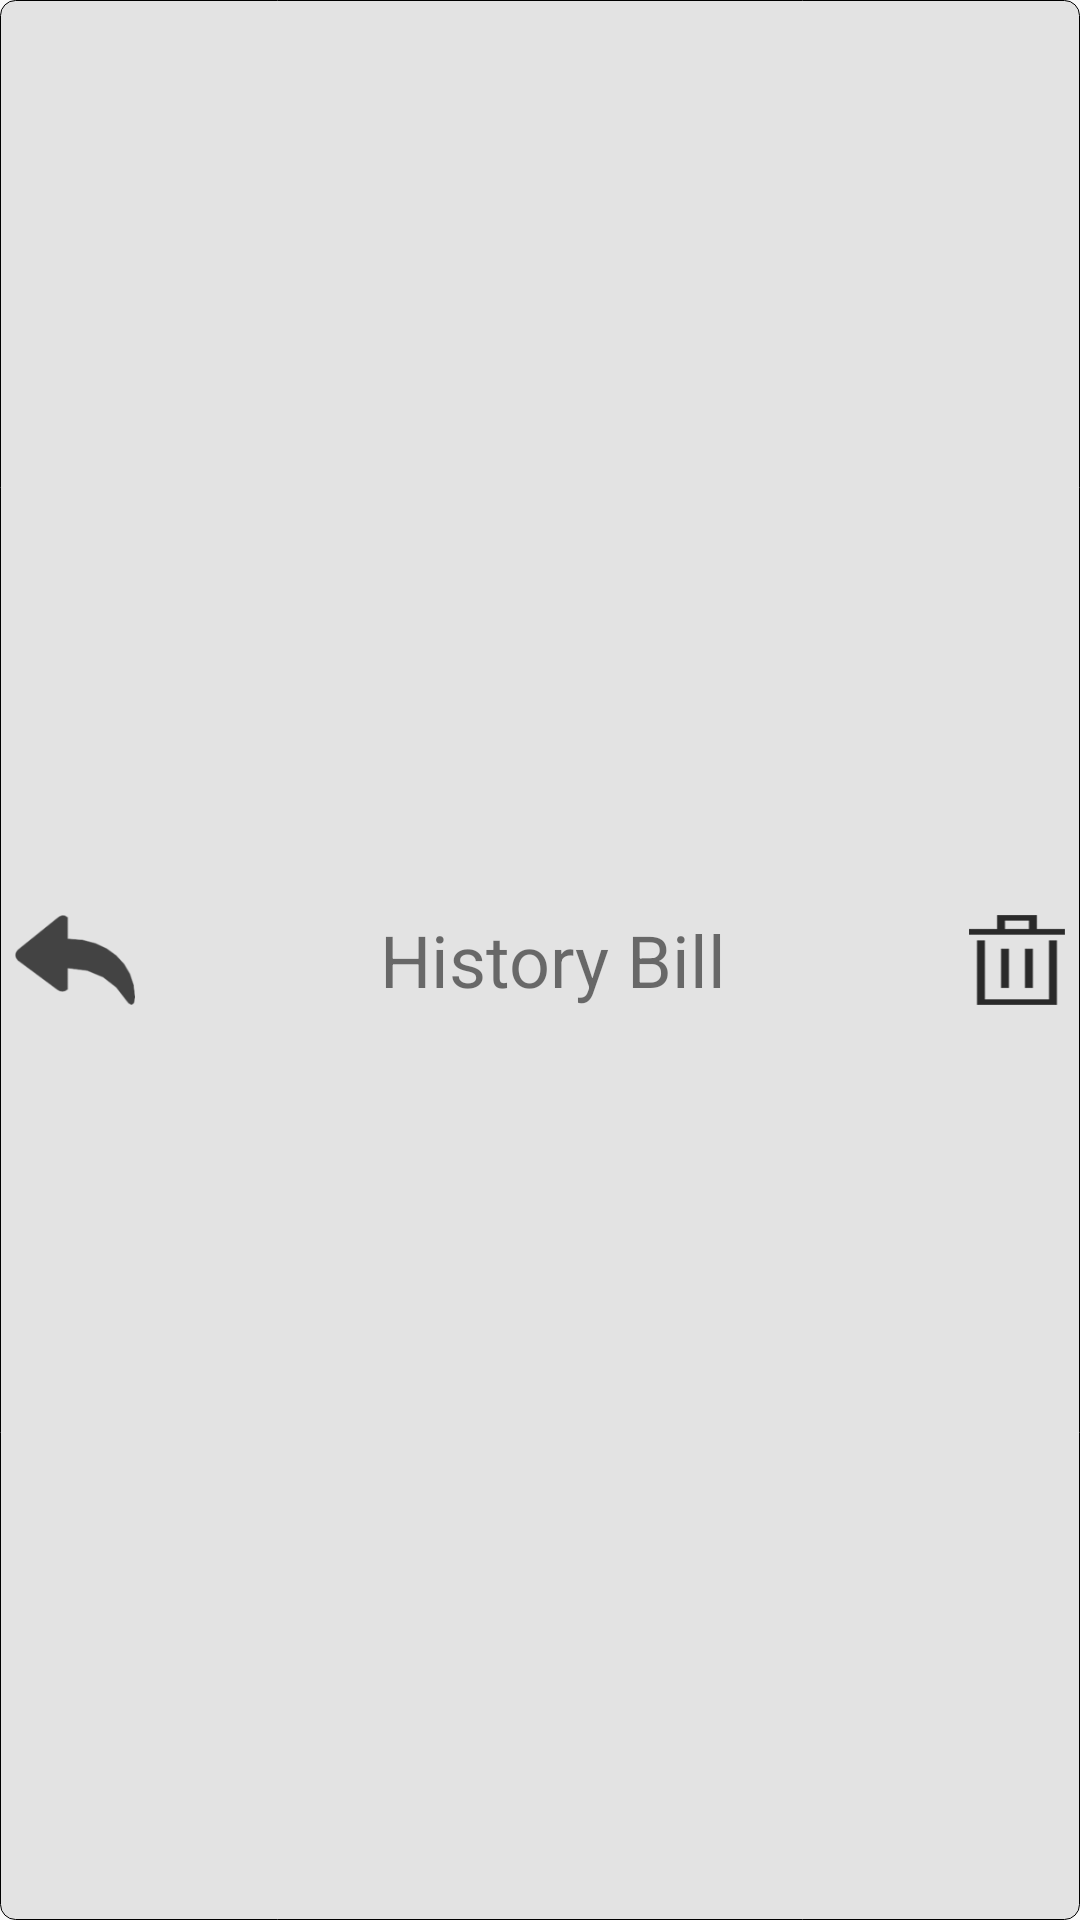

Icons on this 1080px×1920px Android screen, each with the point to tap as [x,y]:
backward: [75,960]
delete: [1017,960]
